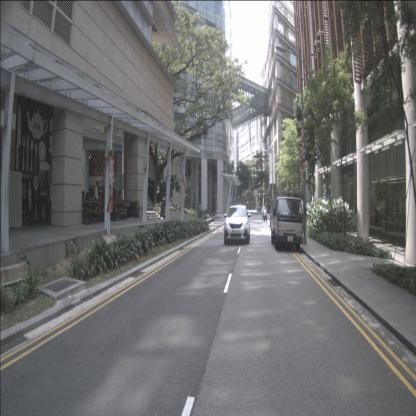human-pedestrian-adult: (94, 181, 102, 217), (80, 190, 88, 219), (115, 189, 123, 215), (111, 182, 116, 215), (84, 192, 90, 209), (261, 203, 265, 222), (263, 207, 268, 222), (198, 202, 202, 217)
vehicle-car: (224, 204, 250, 245)
vehicle-truck: (269, 196, 304, 252)
